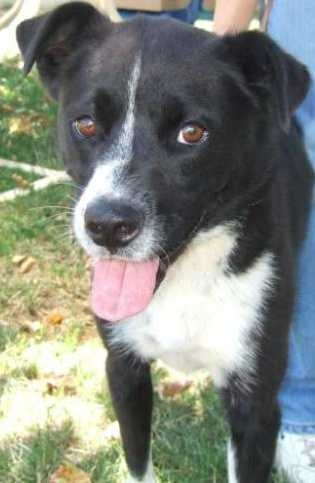Dog: (50, 2, 314, 425)
